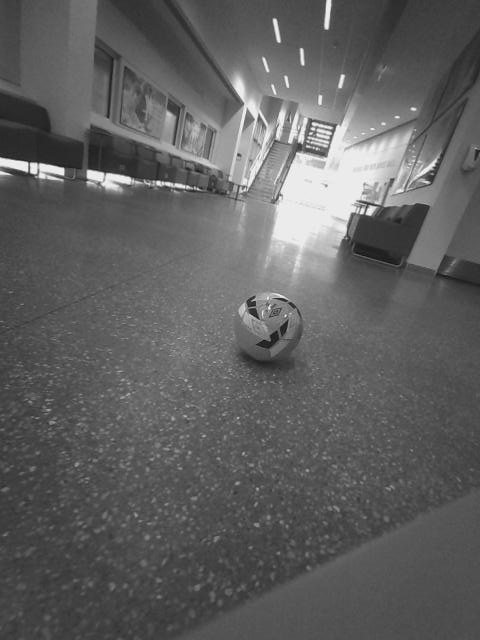ball: (222, 378, 294, 452)
